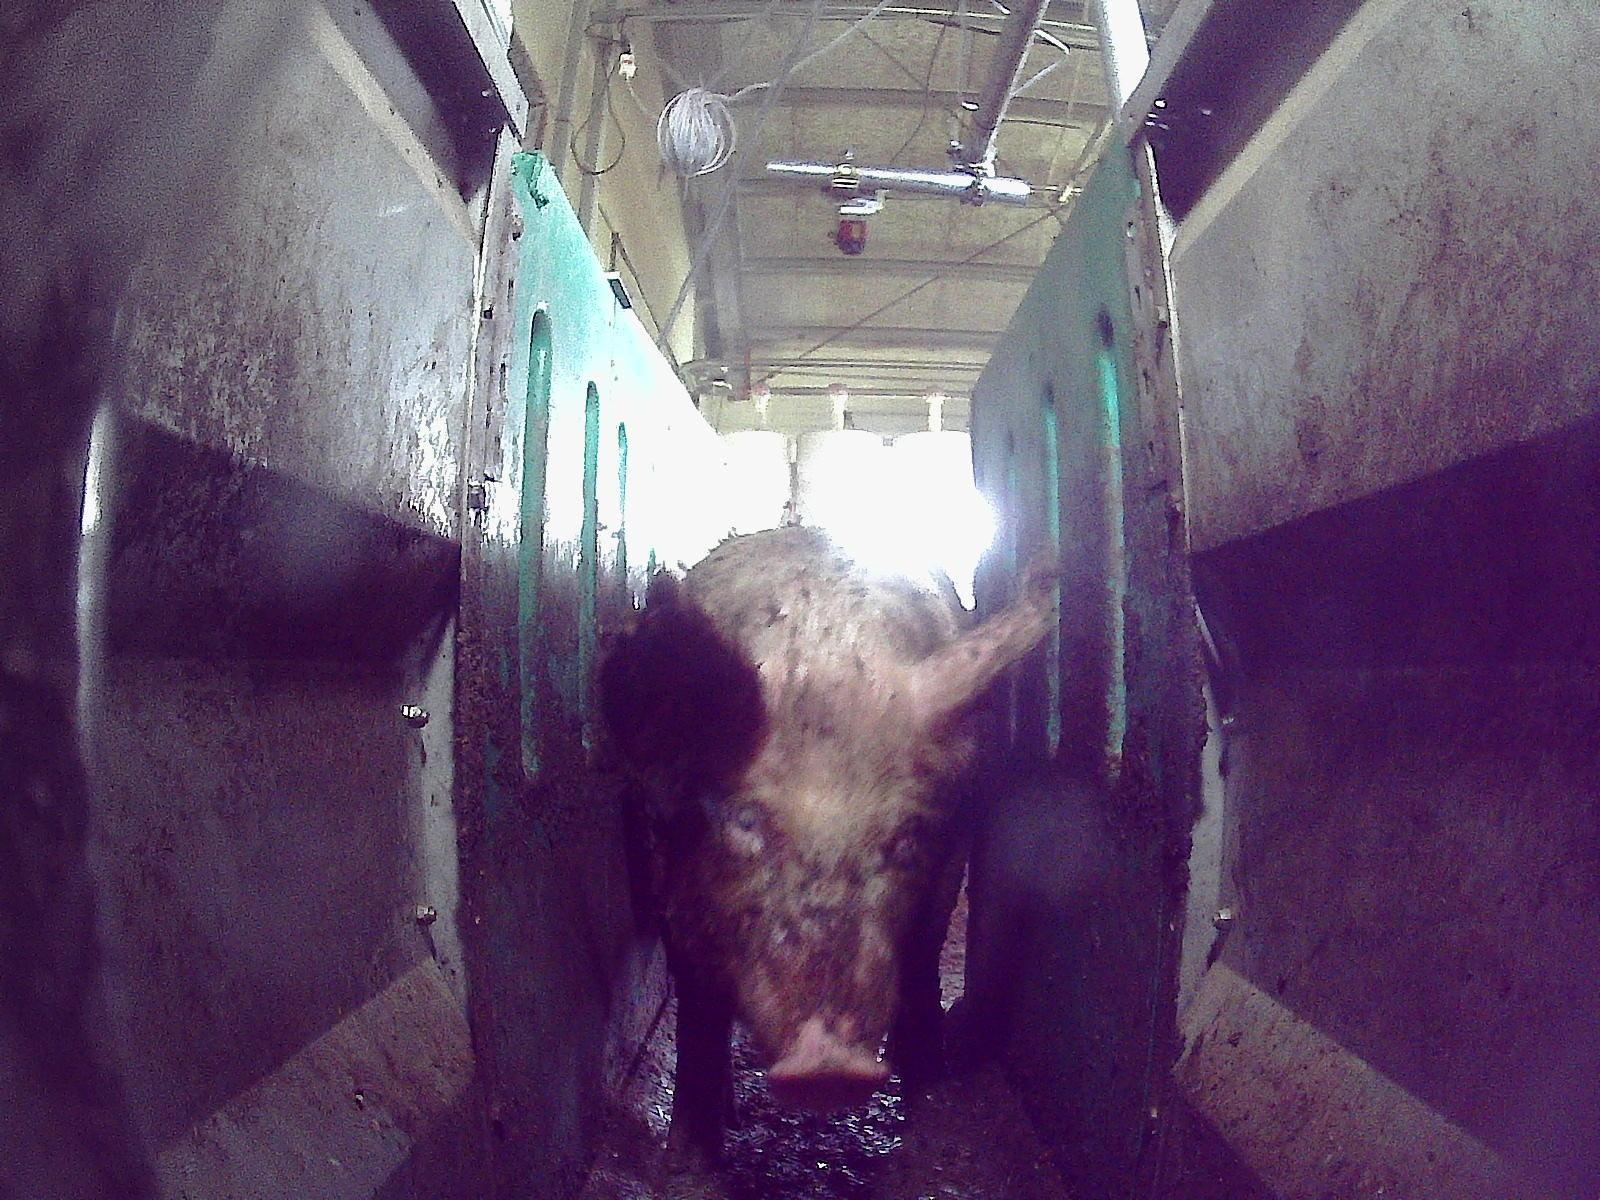Face: (662, 688, 942, 1112)
